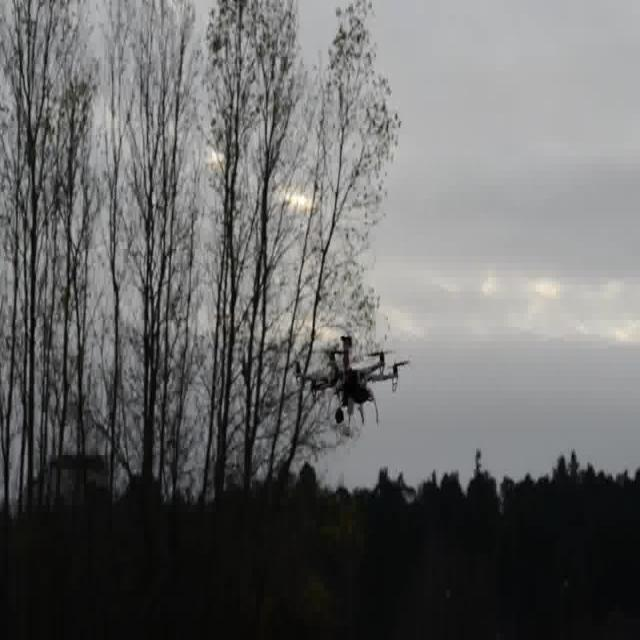drone: (293, 334, 412, 427)
